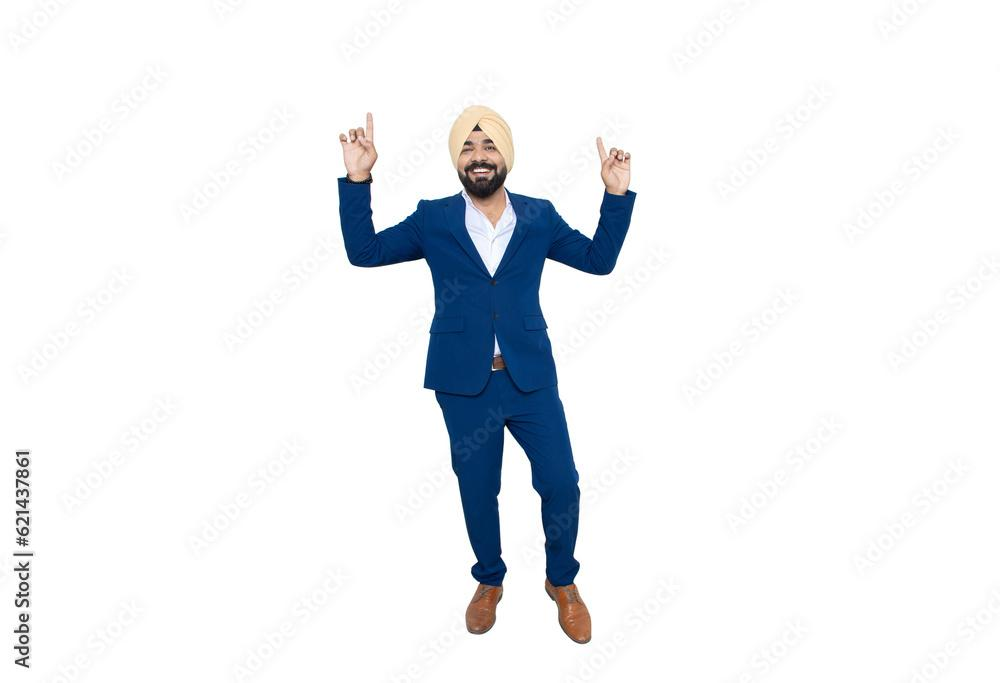Human: (337, 81, 656, 647)
